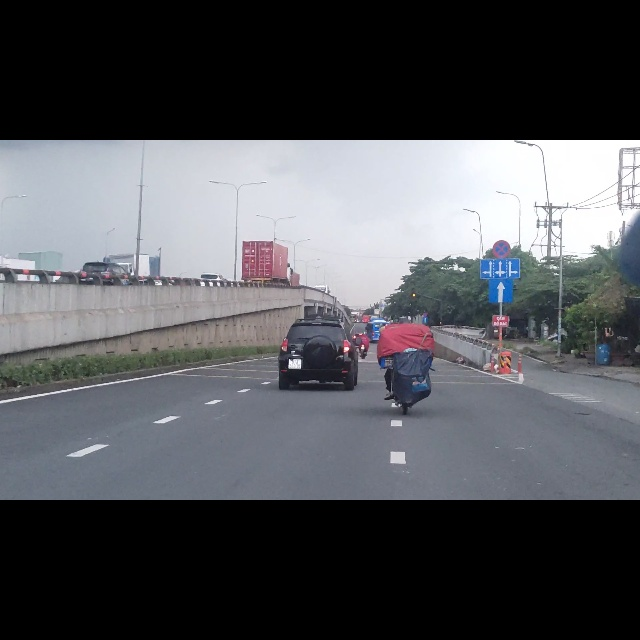bien_chi_dan: (489, 247, 513, 290), (491, 177, 512, 210)
